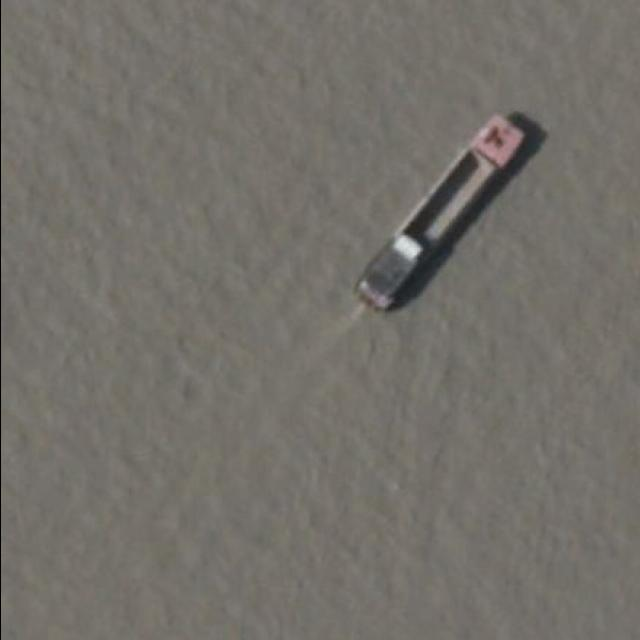ship: (352, 105, 528, 313)
